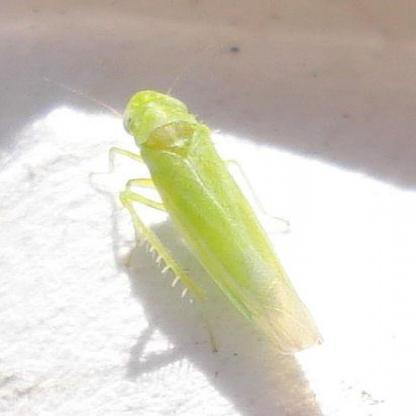green-leafhopper: (128, 93, 302, 354)
